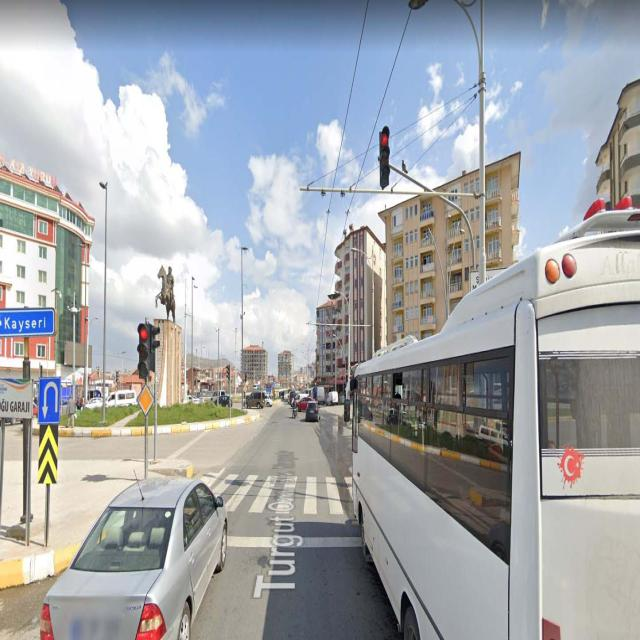kirmizi: (138, 319, 150, 380), (378, 124, 389, 188)
